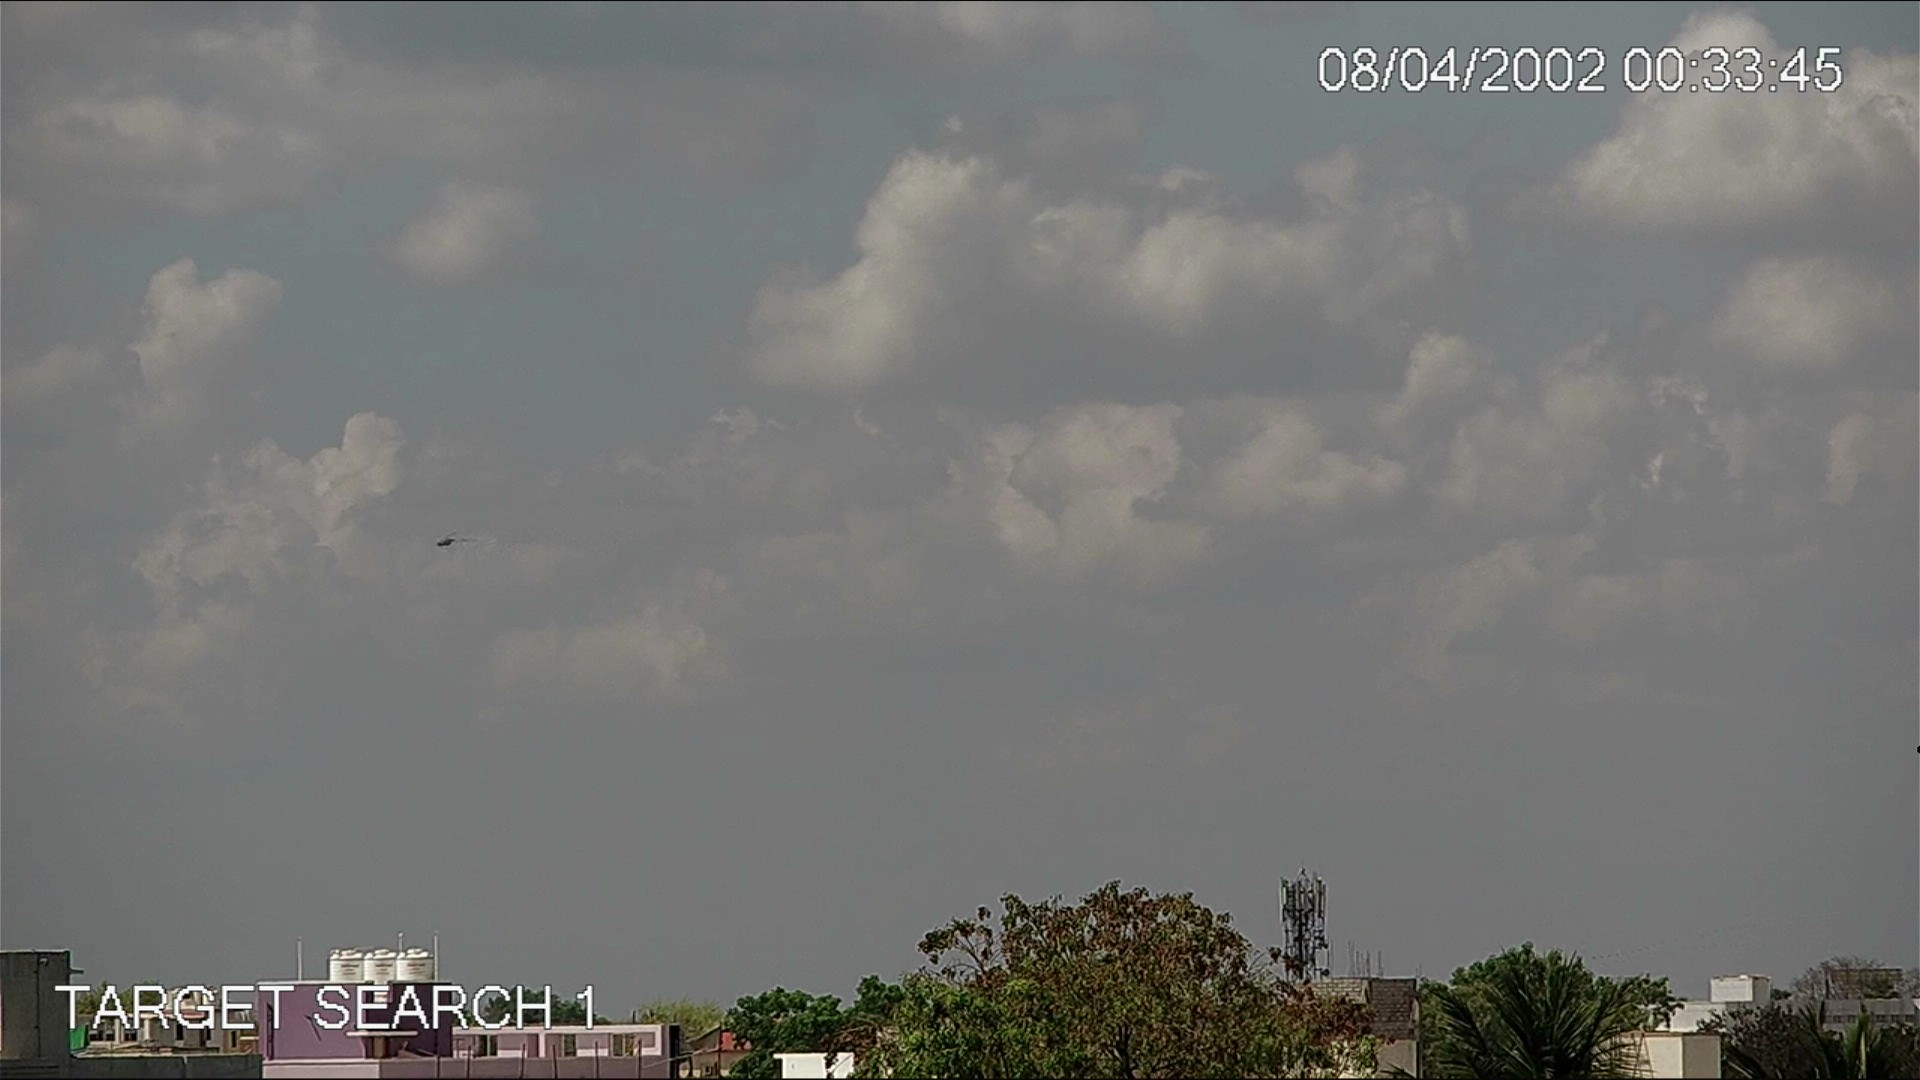SU_30: (430, 530, 477, 550)
